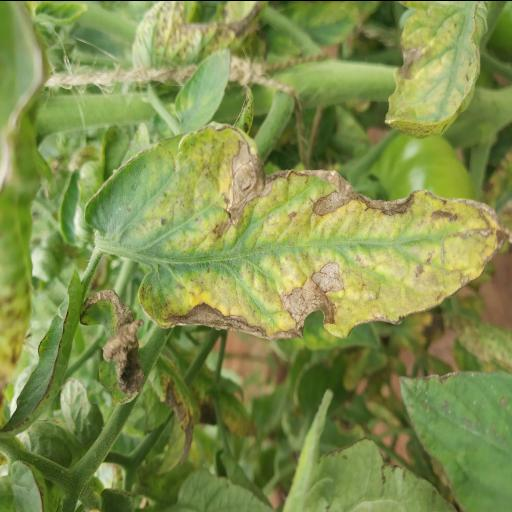disease_tomato: (84, 119, 512, 340)
